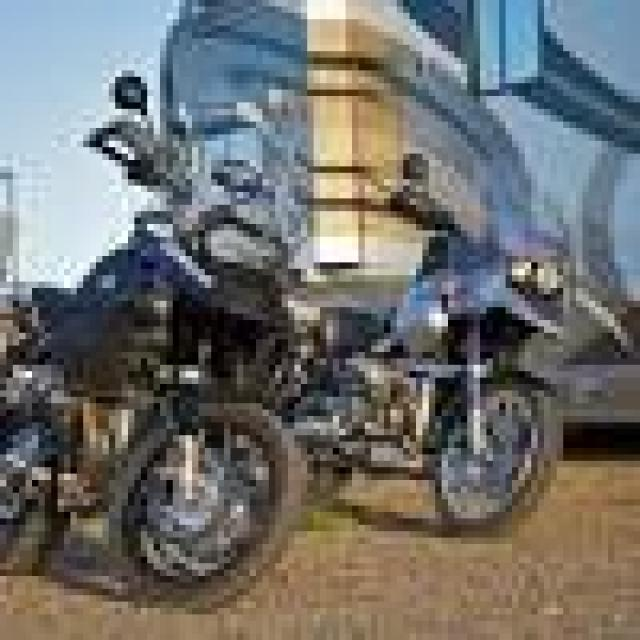Bike: (0, 70, 311, 616), (276, 152, 576, 539)
